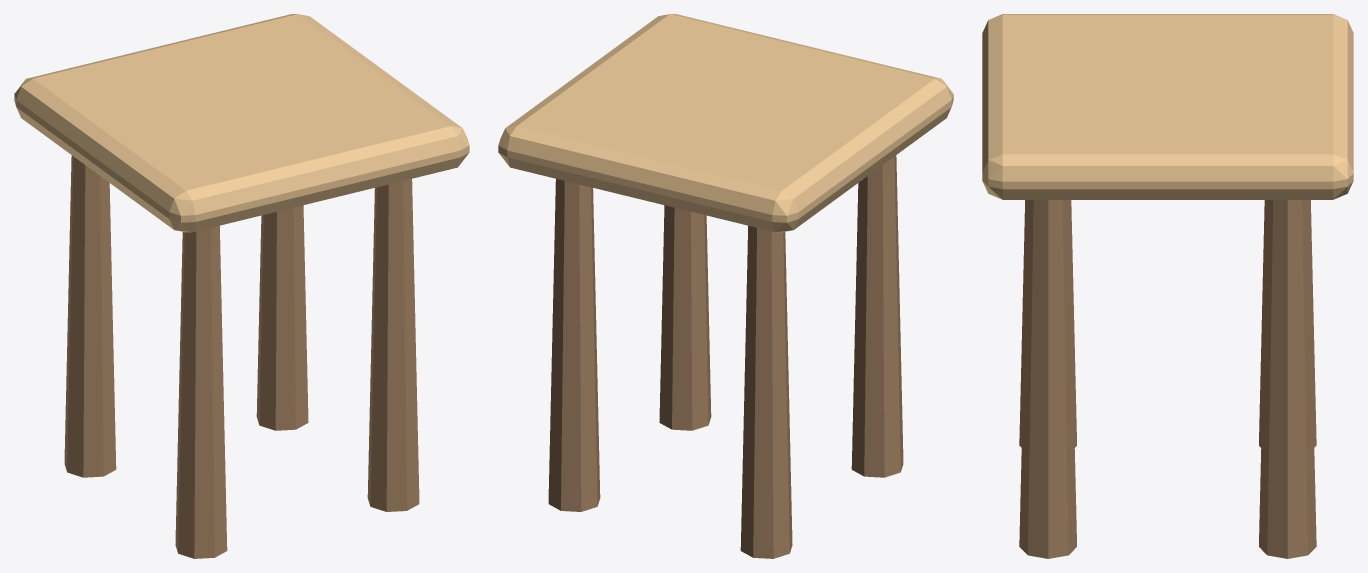
Rendered from cozy-home-interiors-side-table-d032d230.glb.
3 views of the same model, side by side, from view 1: azimuth 30°, elevation 25°; view 2: azimuth 150°, elevation 25°; view 3: azimuth 270°, elevation 25° (orthographic). The views are drawn at different scales.
Visible parts, largest first — view 1: side-table; view 2: side-table; view 3: side-table.
Part boxes in pixels (left/top/right/bottom): side-table: left=14, top=14, right=469, bottom=558; side-table: left=498, top=14, right=953, bottom=558; side-table: left=982, top=14, right=1353, bottom=558.
Bounding box in the file's own units: 0.45 × 0.55 × 0.45.
